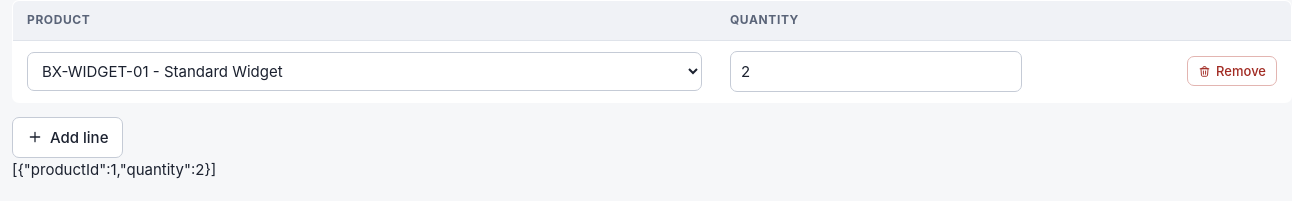
Test: OrderLineEditor › returns to the prompt when the last row is removed
The width and height of the screenshot is (1292, 201).
Click the button "Remove": (1232, 71) [1187,56,1277,86]
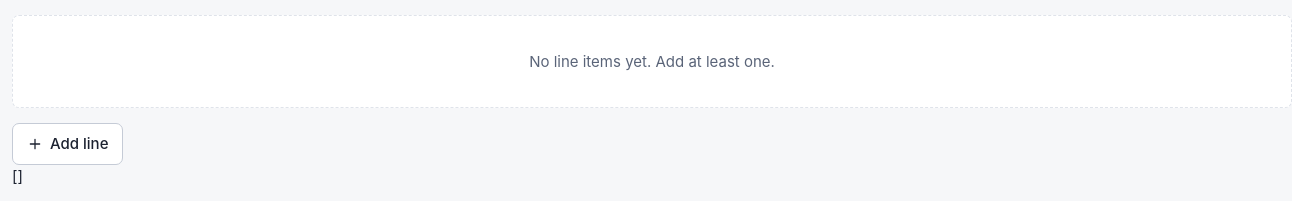
Expected: the text "No line items yet. Add at least one." is shown, [12,15,1291,108]
Expected: the table with test id "lines" is gone
